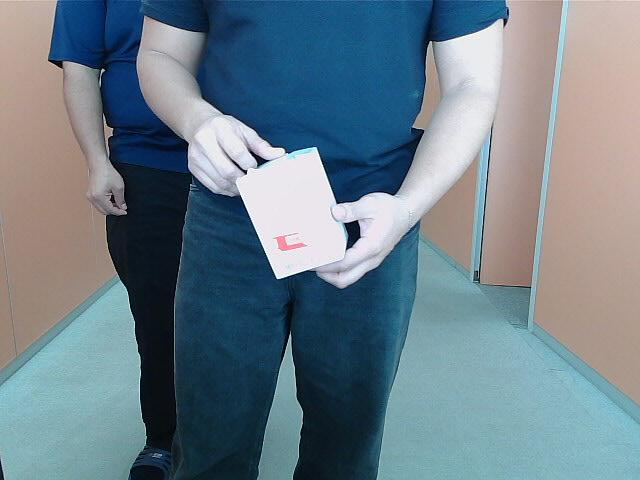Blind_box: (232, 145, 349, 284)
